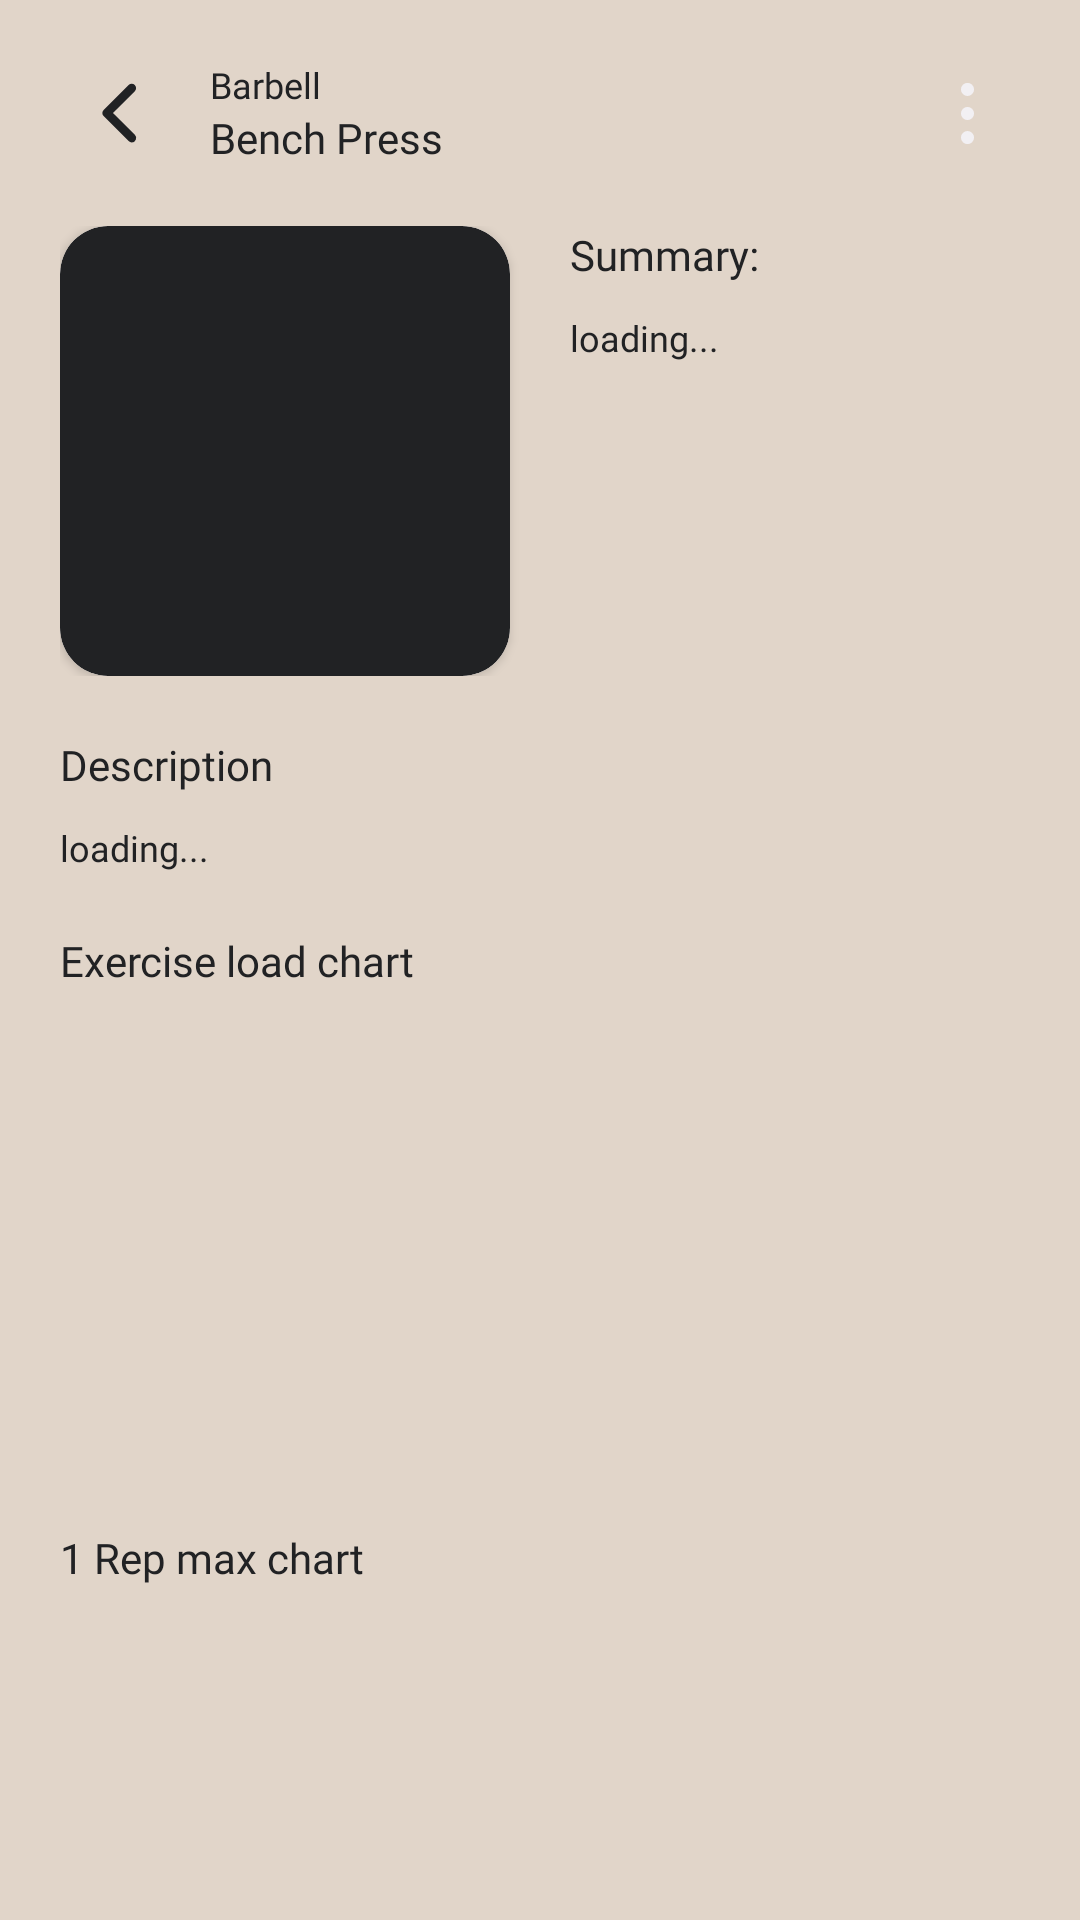

Point at icon controls on the screen. Image size 1080 × 1920, points as point (x, y).
arrow left: point (119, 113)
more: point (967, 113)
